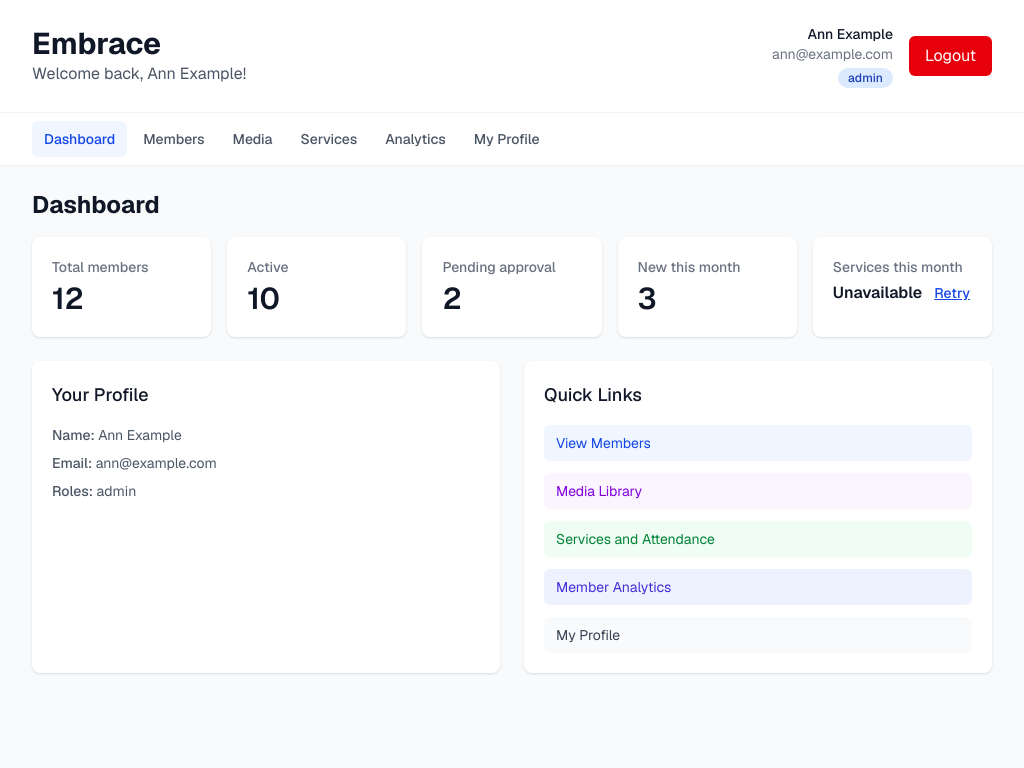
Test: dashboard › says the services count is unavailable when it fails, with a Retry that recovers
Check: the element showing "Unavailable Retry" is shown, box top-left (833, 281), bottom-right (972, 305)
Check: the text "12" is shown, box top-left (52, 279), bottom-right (84, 318)
Click the button "Retry" at (952, 293), box top-left (934, 283), bottom-right (970, 303)
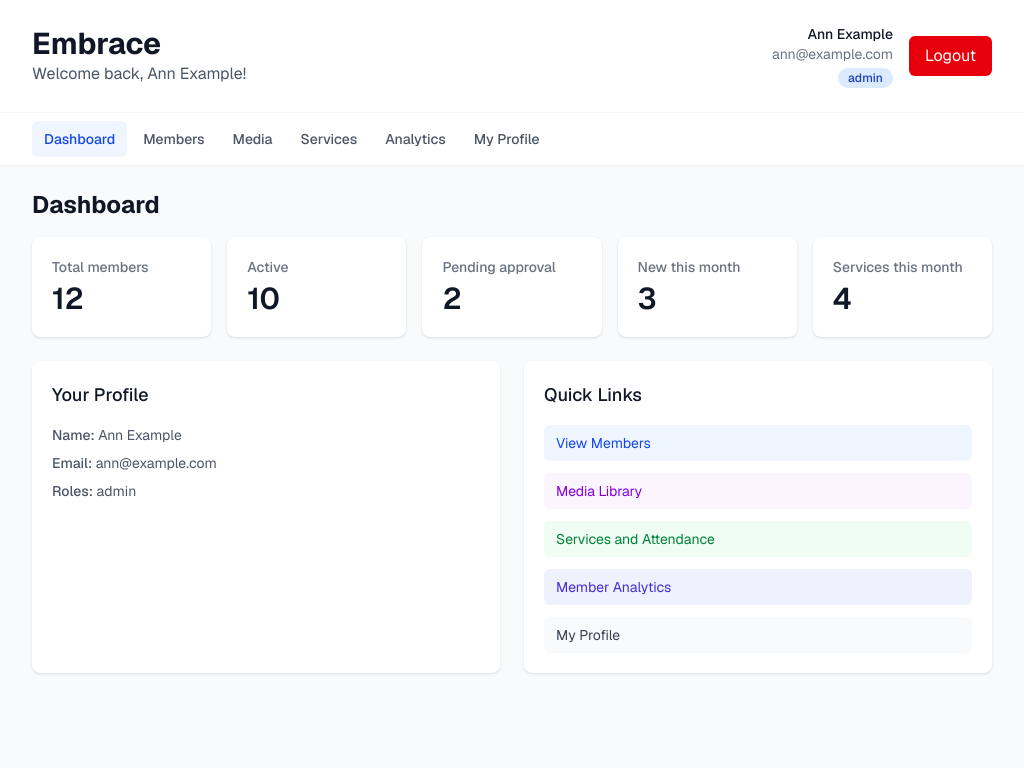
Check: the element showing "4" is shown, box top-left (833, 279), bottom-right (852, 318)
Check: the button "Retry" is gone
